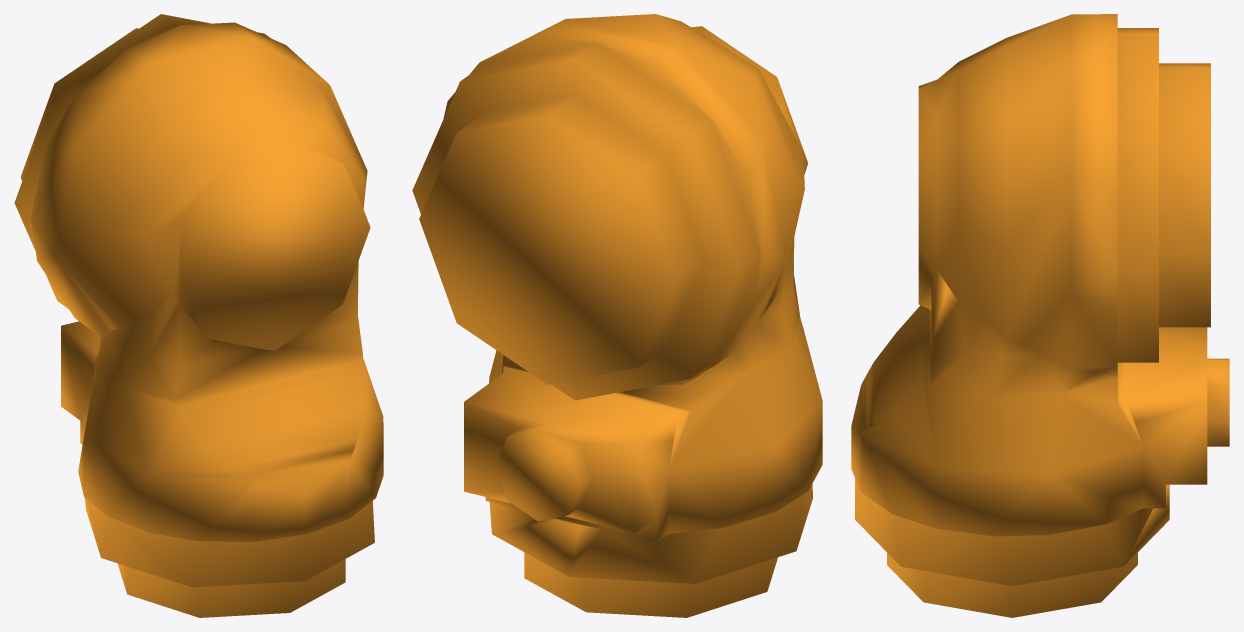
Rendered from KukaKR5ArcLink5.dae.
3 views of the same model, side by side, from view 1: azimuth 30°, elevation 25°; view 2: azimuth 150°, elevation 25°; view 3: azimuth 270°, elevation 25° (orthographic). The views are drawn at different scales.
Visible parts, largest first — view 1: link5; view 2: link5; view 3: link5.
Part boxes in pixels (x1,y1,x2,y2): link5: [14, 14, 383, 617]; link5: [412, 14, 822, 617]; link5: [851, 14, 1229, 617].
Size of the model in its own units: 0.097 by 0.101 by 0.1573.
